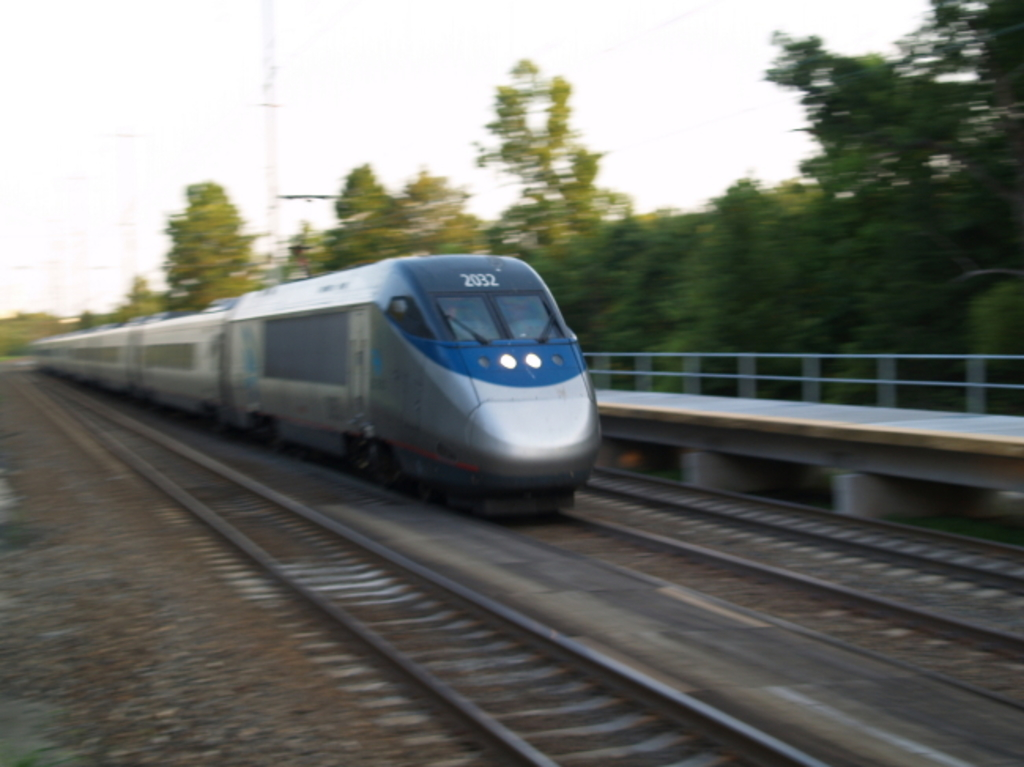Tree: (74, 0, 1024, 416)
